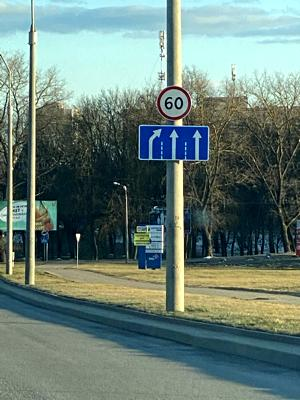Speed Limit -60-: (155, 83, 193, 121)
